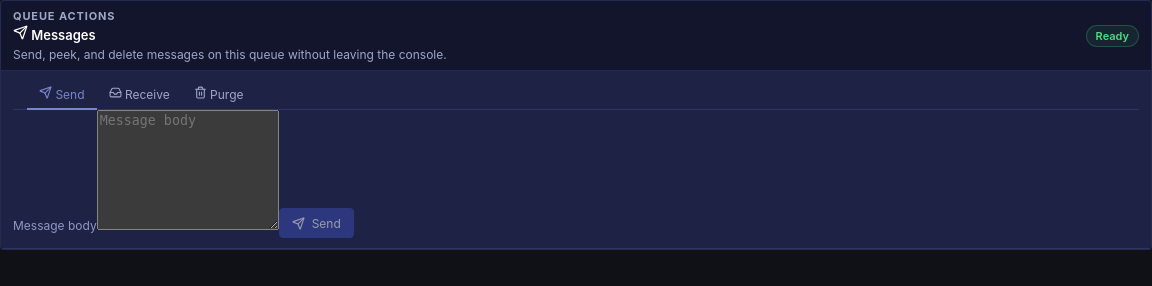
Scenario: SqsMessagingPanel › sends a message and shows the returned message id
Type "hello" into the text box labelled "Message body" at (188, 170), box [97,110,279,230]
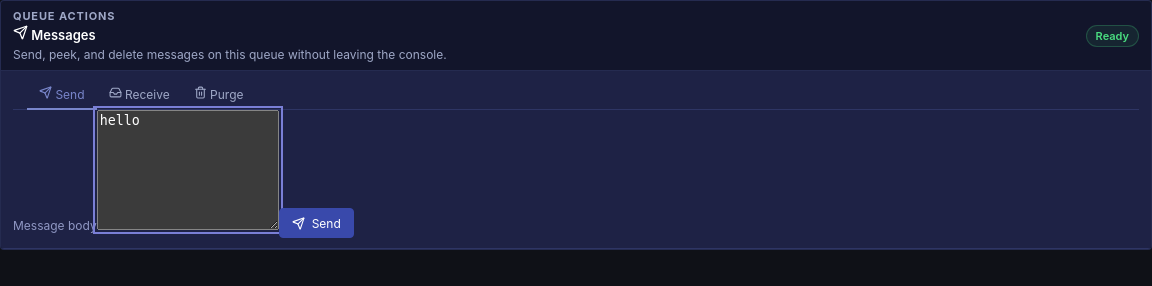
Click the 2nd button "Send" at (316, 223), box [279,208,354,238]
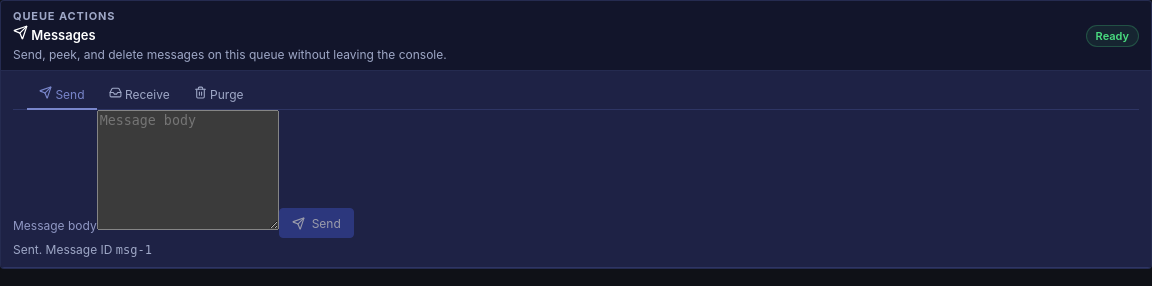
Expected: the text "msg-1" is shown, [116,243,152,257]
